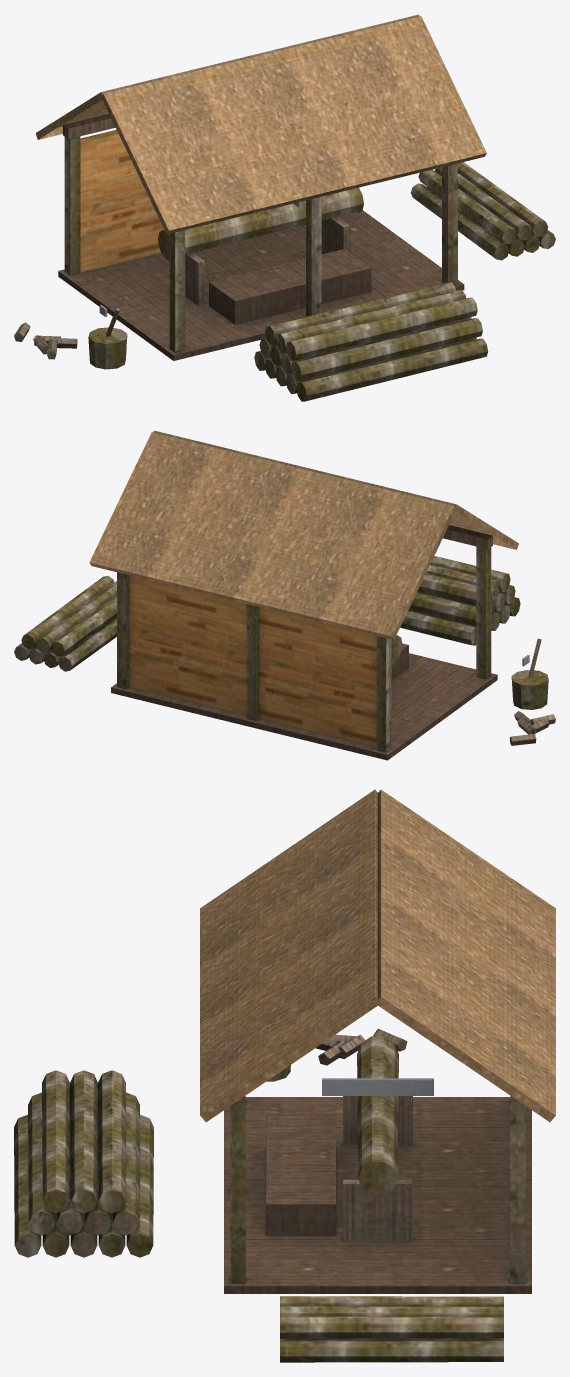
File: lumber.glb
3 renders of one model, top to bottom at view 1: azimuth 30°, elevation 25°; view 2: azimuth 150°, elevation 25°; view 3: azimuth 270°, elevation 25°, orthographic. The views are drawn at different scales.
Visible parts, largest first — view 1: lumber; view 2: lumber; view 3: lumber.
Part boxes in pixels (<box>): lumber: <box>14,14,555,401</box>; lumber: <box>14,430,555,760</box>; lumber: <box>14,789,555,1362</box>.
Size of the model in its own units: 11.09 by 4.83 by 7.74.
Materials: 1 (1 with a texture image).
